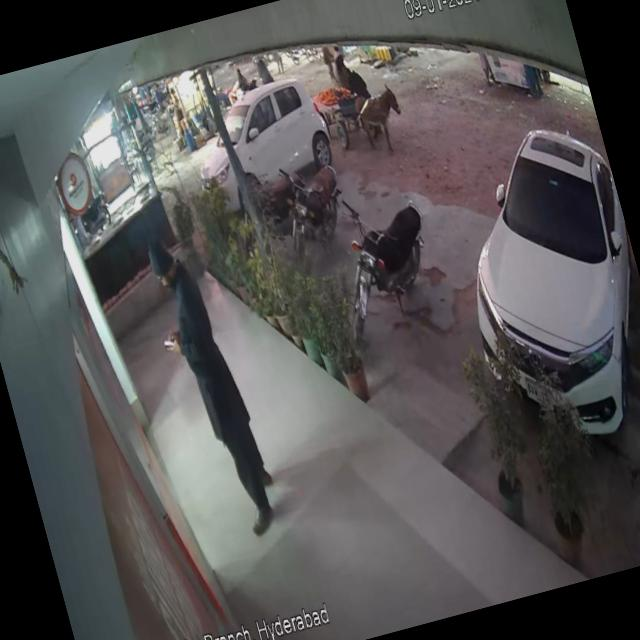Car: (417, 70, 640, 471), (158, 58, 342, 212)
Motorcycle: (315, 168, 459, 348), (275, 152, 359, 254)
